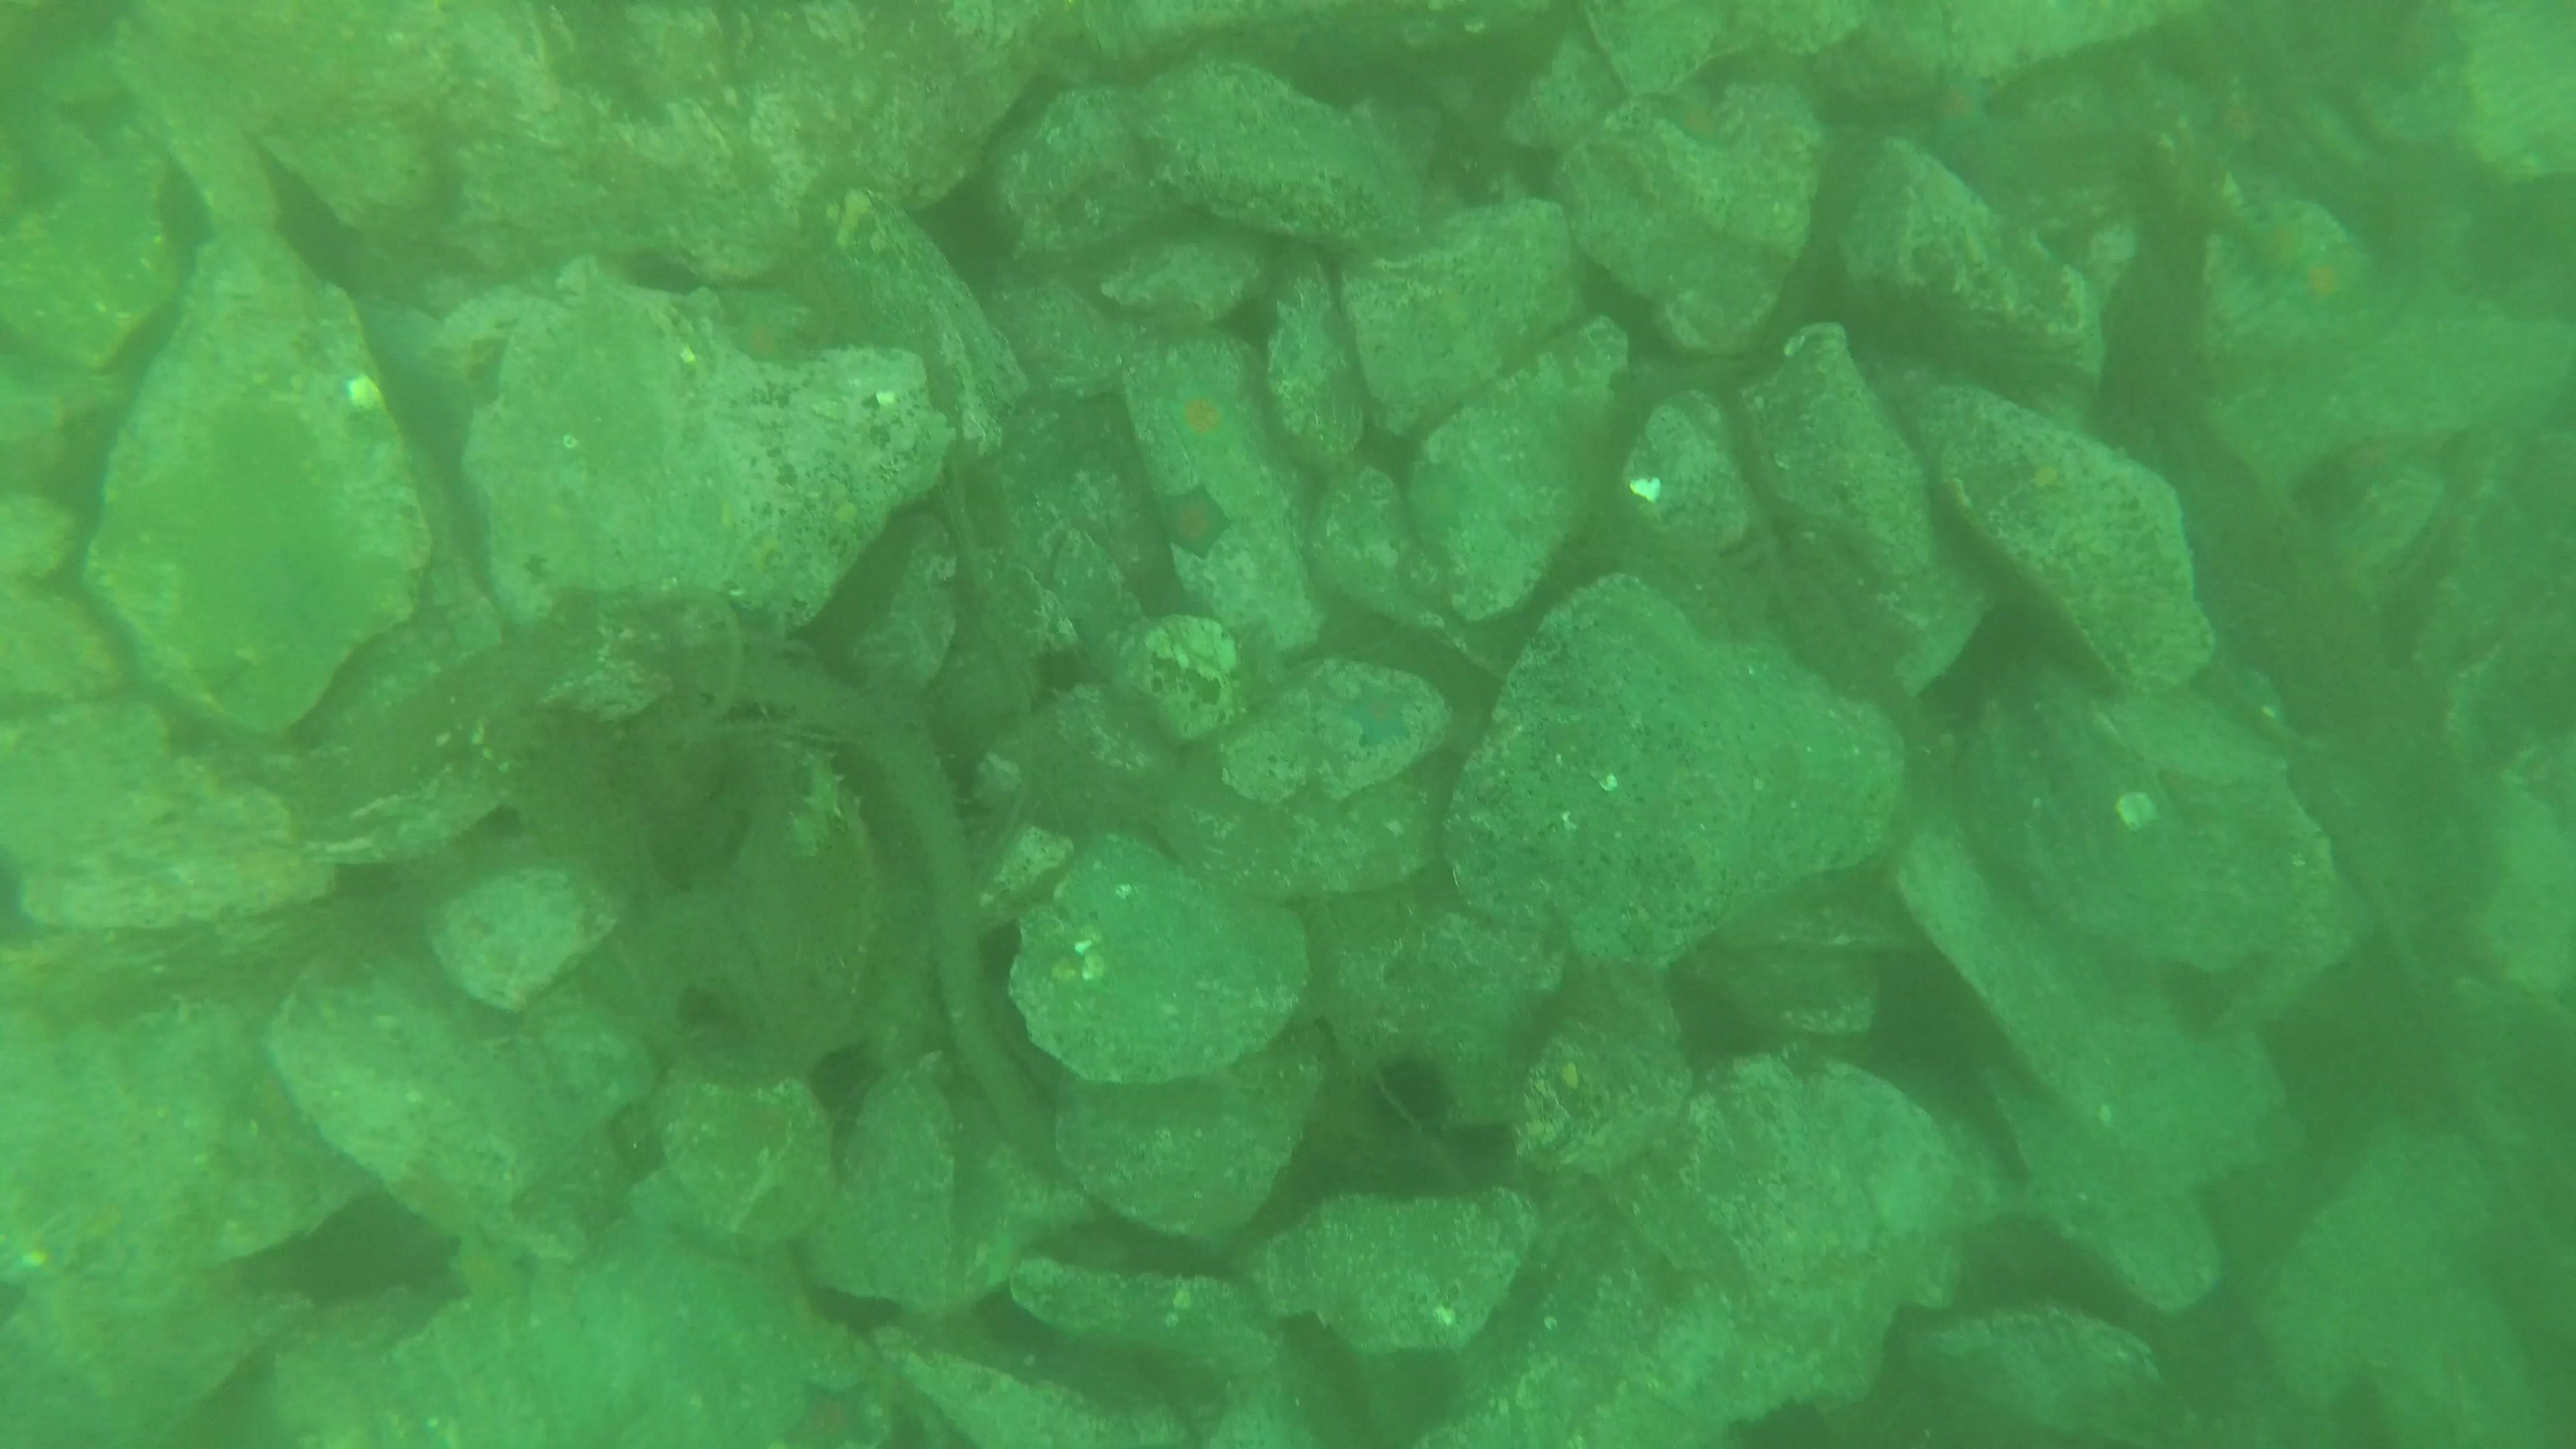echinus: (1371, 1058, 1444, 1132)
starfish: (2277, 241, 2371, 327), (1918, 74, 2003, 143), (1161, 487, 1233, 563), (1338, 685, 1419, 752), (725, 310, 810, 372), (1171, 386, 1244, 455)
